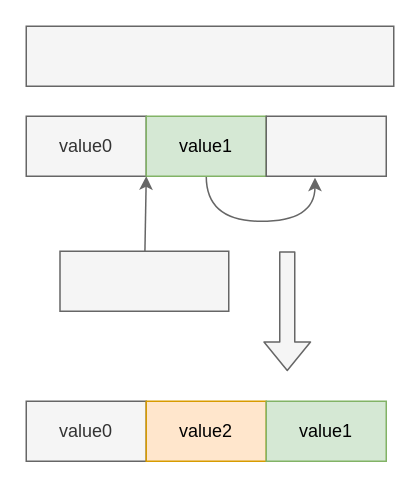
Image size: 420x488. Some labels were removed from this diagram. Here are the shapes that lost their labels. From the top down, the centre of each, then its label:
At (209,55): "std::vector::insert()".
At (143,280): "insert(value2)".
